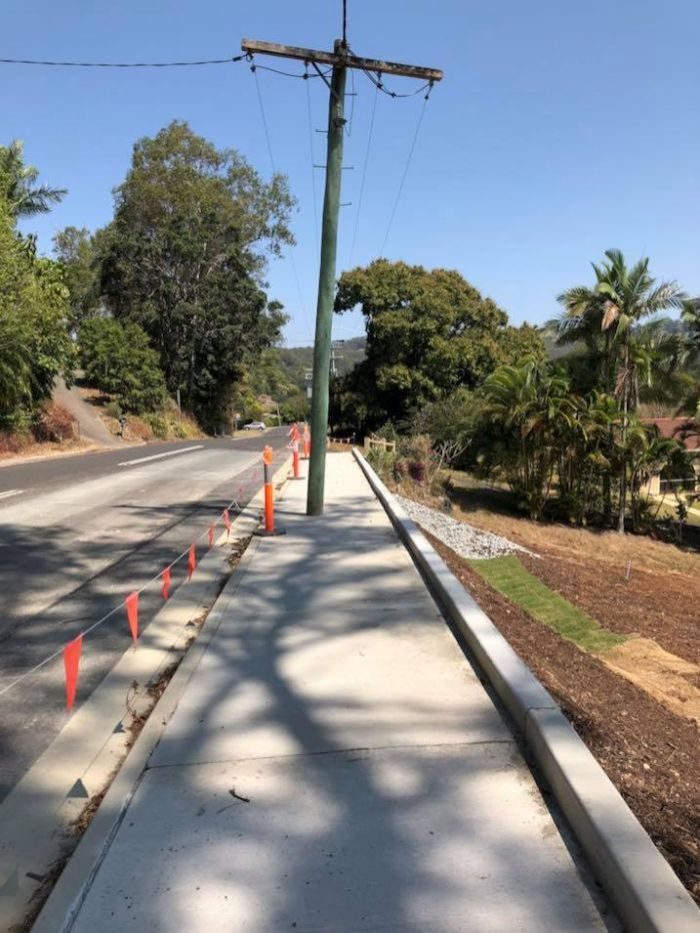pole: (217, 19, 452, 525)
